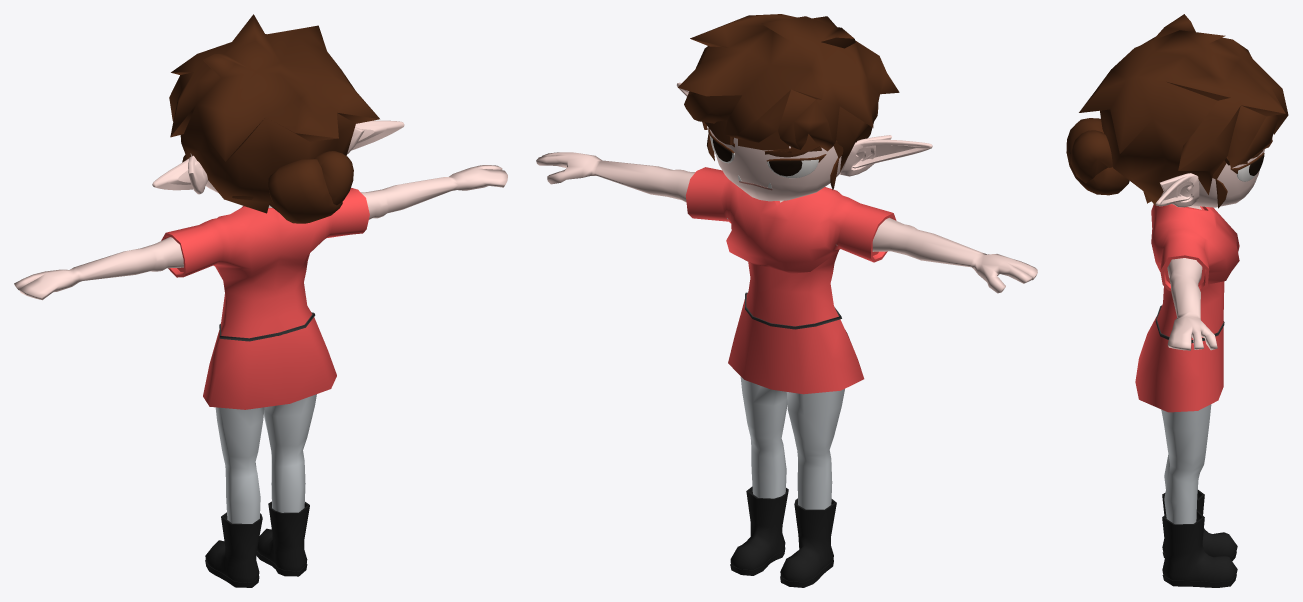
The model's file is TEstCharacter 1.fbx.
The picture shows the model from 3 angles, left to right: view 1: azimuth 30°, elevation 25°; view 2: azimuth 150°, elevation 25°; view 3: azimuth 270°, elevation 25°; orthographic projection. The views are drawn at different scales.
Visible parts, largest first — view 1: Hair.Male, Shirt, Character, Pants, Hair.Female, Ear.Elf; view 2: Shirt, Hair.Male, Character, Pants, Hair.Female, Ear.Elf, Ear.Human; view 3: Hair.Male, Shirt, Character, Pants, Hair.Female, Ear.Elf, Ear.Human.
Part boxes in pixels (x1,y1,x2,y2): Hair.Male: (169,14,379,213); Shirt: (161,187,369,409); Character: (14,153,507,587); Pants: (215,394,316,523); Hair.Female: (182,151,353,223); Ear.Elf: (152,120,404,190); Shirt: (685,167,896,394); Hair.Male: (678,14,899,171); Character: (536,129,1037,587); Pants: (740,376,844,509); Hair.Female: (702,103,878,189); Ear.Elf: (676,82,932,173); Ear.Human: (839,139,875,176); Hair.Male: (1079,14,1288,205); Shirt: (1135,204,1239,412); Character: (1162,149,1264,587); Pants: (1161,404,1211,524); Hair.Female: (1066,118,1272,208); Ear.Elf: (1155,176,1193,206); Ear.Human: (1173,173,1199,207).
Bounding box in the file's own units: 0.9793 × 0.3915 × 1.05.
